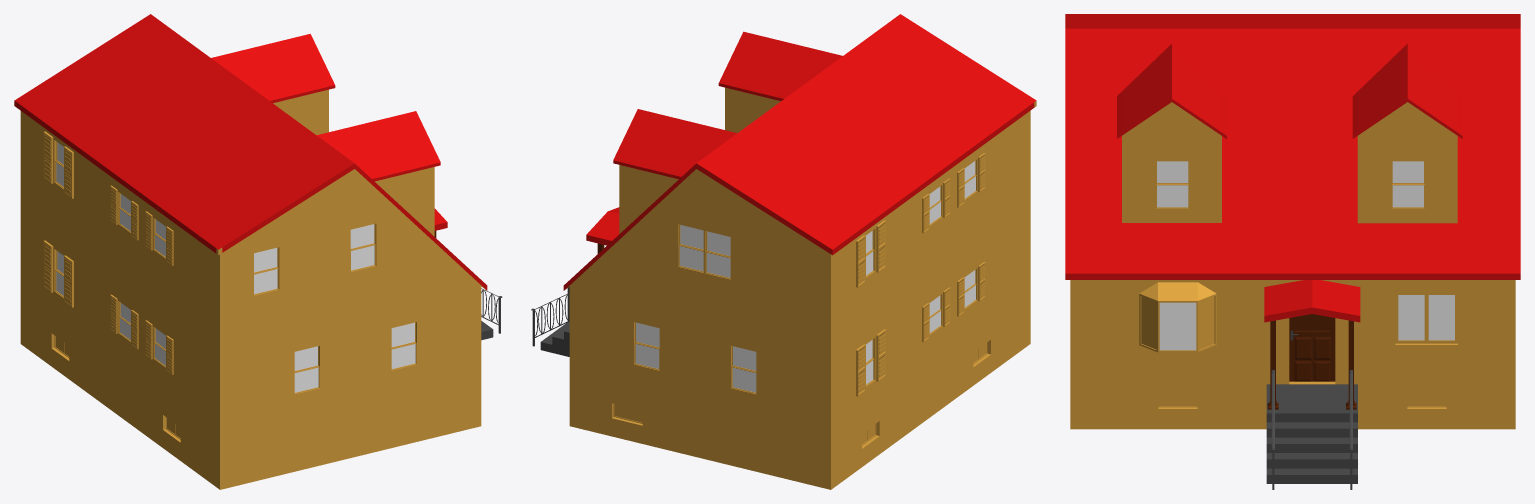
Rendered from house3.FBX.
The picture shows the model from 3 angles, left to right: view 1: azimuth 30°, elevation 25°; view 2: azimuth 150°, elevation 25°; view 3: azimuth 270°, elevation 25°; orthographic projection. The views are drawn at different scales.
Parts seen in each view (by area): view 1: building_x; view 2: building_x; view 3: building_x.
Boxes of the visible parts, x1,y1,x2,y2 form: building_x: [14, 14, 502, 489]; building_x: [531, 14, 1036, 489]; building_x: [1065, 14, 1520, 489].
Bounding box in the file's own units: 383 × 288 × 359.
